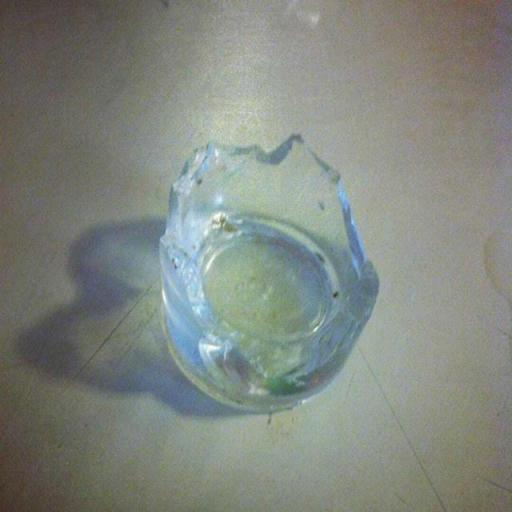glass: (144, 118, 386, 428)
